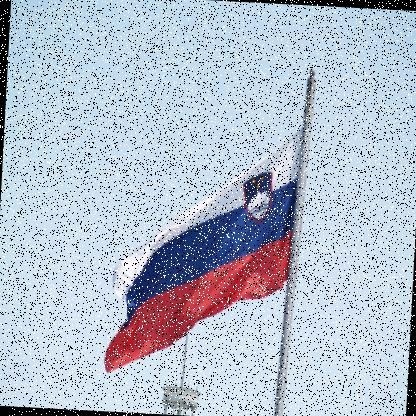si: (102, 112, 304, 386)
